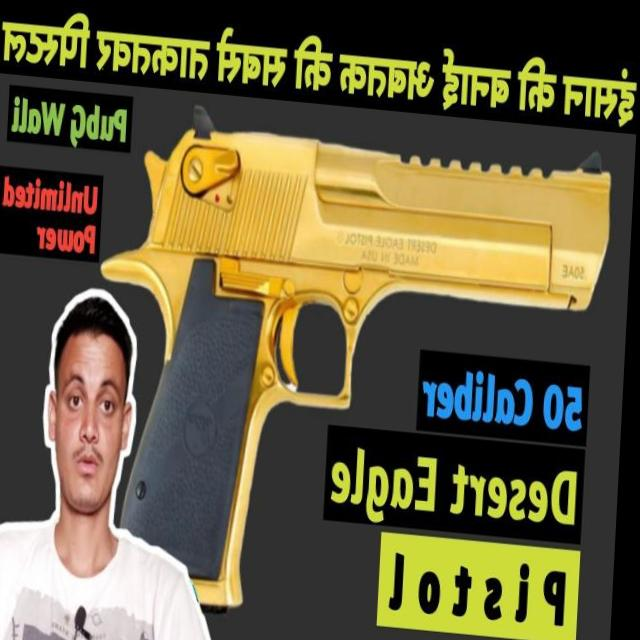handgun: (91, 103, 617, 607)
